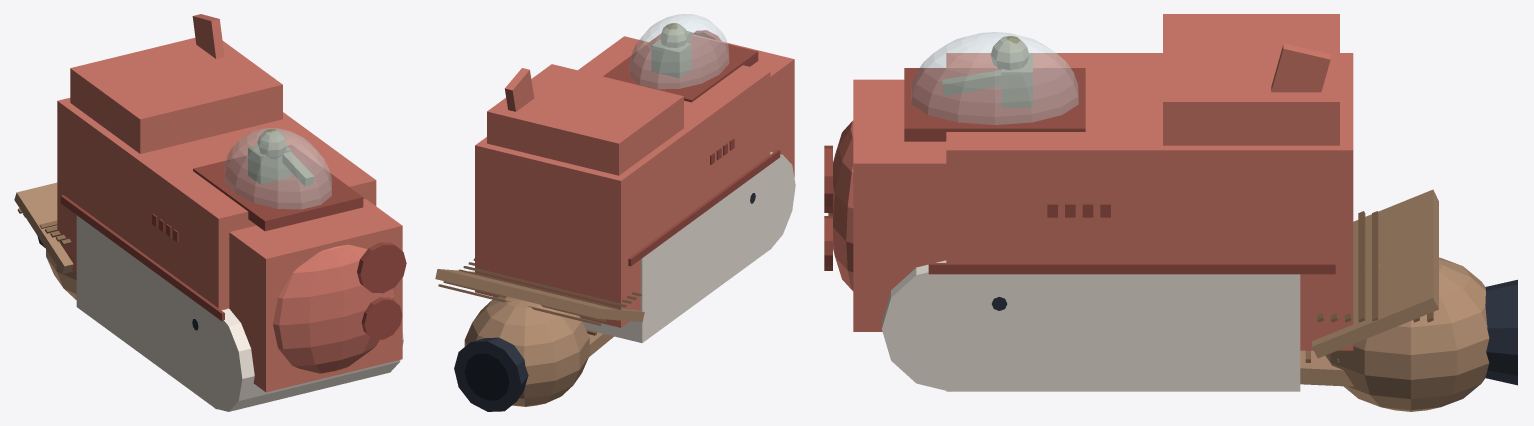
Rendered from gateHaulerCraft_hauler-96-1.glb.
3 views of the same model, side by side, from view 1: azimuth 30°, elevation 25°; view 2: azimuth 150°, elevation 25°; view 3: azimuth 270°, elevation 25° (orthographic). The views are drawn at different scales.
Parts seen in each view (by area): view 1: n1, n7, n3, n9, n5, n15, n16, n11, n32, n22, n13, n24 (+5 smaller); view 2: n1, n7, n9, n27, n15, n16, n3, n32, n29, n11, n31, n13 (+7 smaller); view 3: n1, n9, n7, n3, n27, n11, n15, n32, n16, n14, n29, n5 (+7 smaller).
Boxes of the visible parts, x1,y1,x2,y2 form: n1: (57, 98, 376, 310); n7: (70, 38, 282, 153); n3: (229, 199, 402, 392); n9: (76, 215, 229, 409); n5: (273, 244, 395, 373); n15: (224, 128, 331, 209); n16: (193, 145, 363, 231); n11: (192, 308, 403, 411); n32: (14, 182, 73, 273); n22: (357, 242, 406, 293); n13: (60, 195, 224, 321); n24: (361, 297, 402, 339); n1: (475, 36, 770, 327); n7: (487, 64, 683, 175); n9: (493, 163, 771, 342); n27: (464, 289, 589, 406); n15: (629, 14, 729, 89); n16: (603, 34, 758, 102); n3: (654, 34, 794, 177); n32: (435, 269, 644, 322); n29: (454, 337, 528, 411); n11: (745, 152, 795, 252); n31: (464, 353, 509, 400); n13: (628, 149, 780, 266); n1: (946, 53, 1353, 350); n9: (946, 274, 1300, 391); n7: (1163, 14, 1339, 145); n3: (853, 79, 946, 331); n27: (1325, 257, 1489, 411); n11: (881, 260, 1019, 391); n15: (911, 32, 1078, 124); n32: (1312, 189, 1438, 358); n16: (904, 68, 1085, 141); n14: (928, 263, 1335, 274); n29: (1485, 279, 1517, 385); n5: (828, 120, 853, 291).
Bounding box in the file's own units: 2.9 × 4.86 × 7.86.
